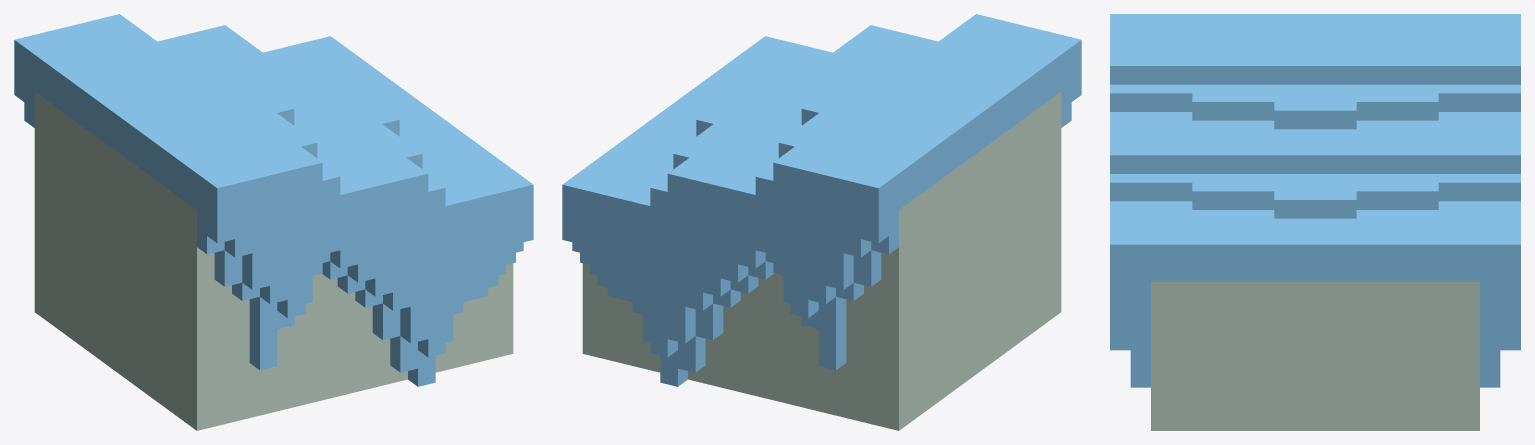
The model's file is Floors-15.obj.
The picture shows the model from 3 angles, left to right: view 1: azimuth 30°, elevation 25°; view 2: azimuth 150°, elevation 25°; view 3: azimuth 270°, elevation 25°; orthographic projection.
Size of the model in its own units: 1.8 by 1.4 by 2.
